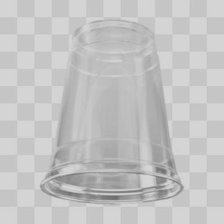glass: (33, 16, 189, 213)
